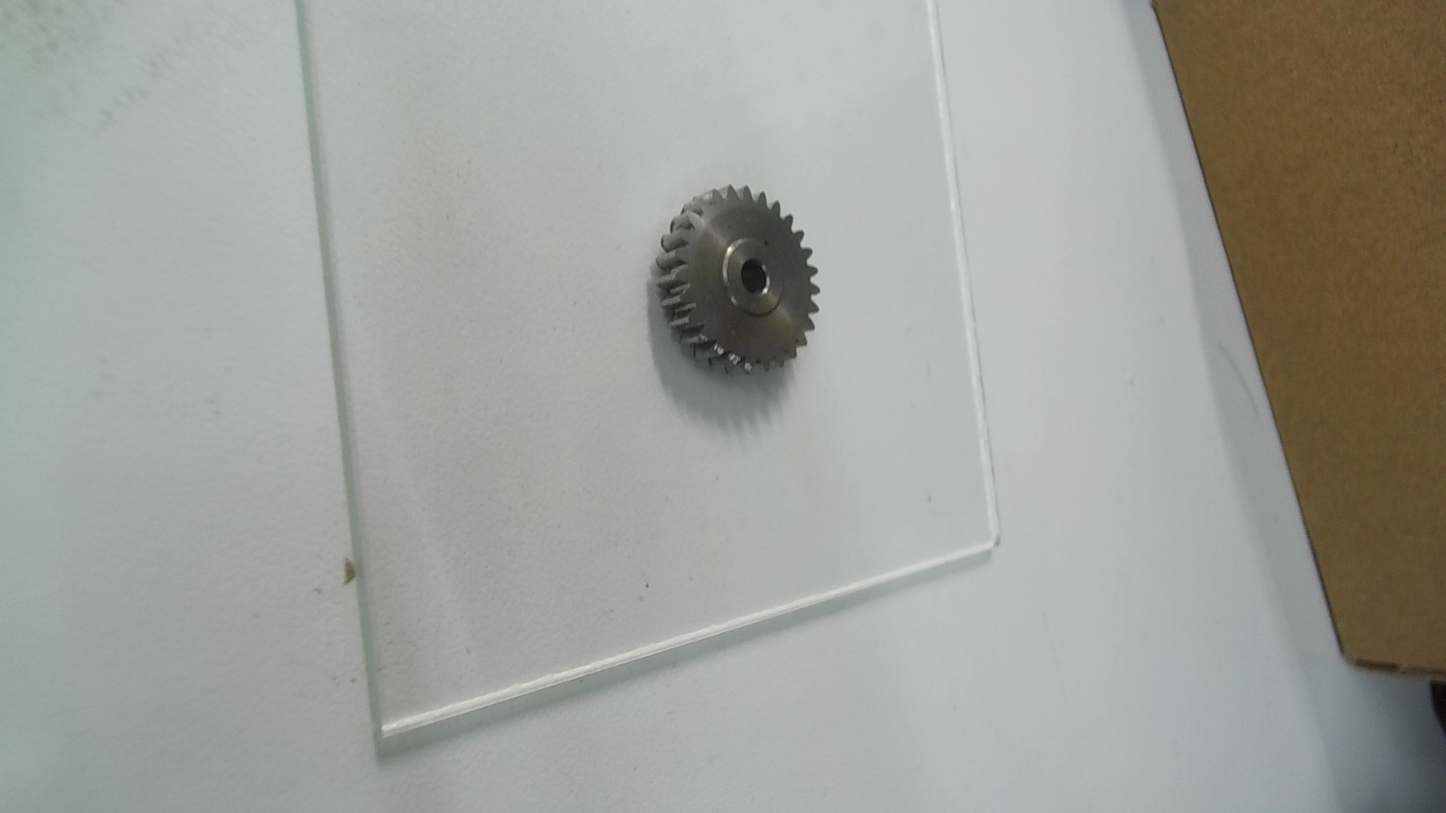gear: (651, 185, 826, 377)
